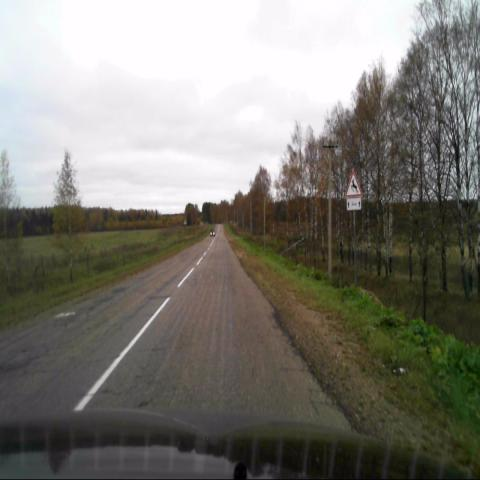1_27: (345, 169, 363, 197)
